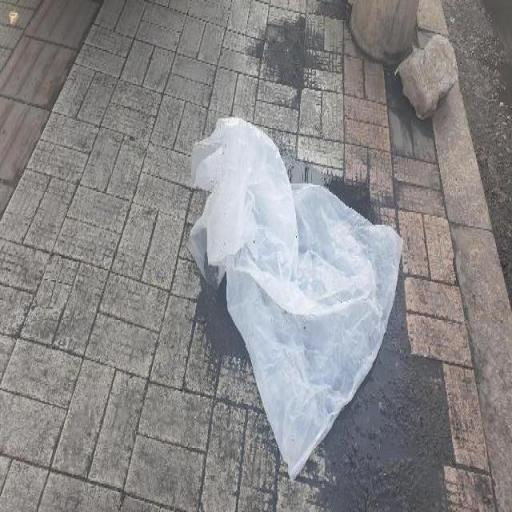plastic-bag: (184, 114, 407, 491)
